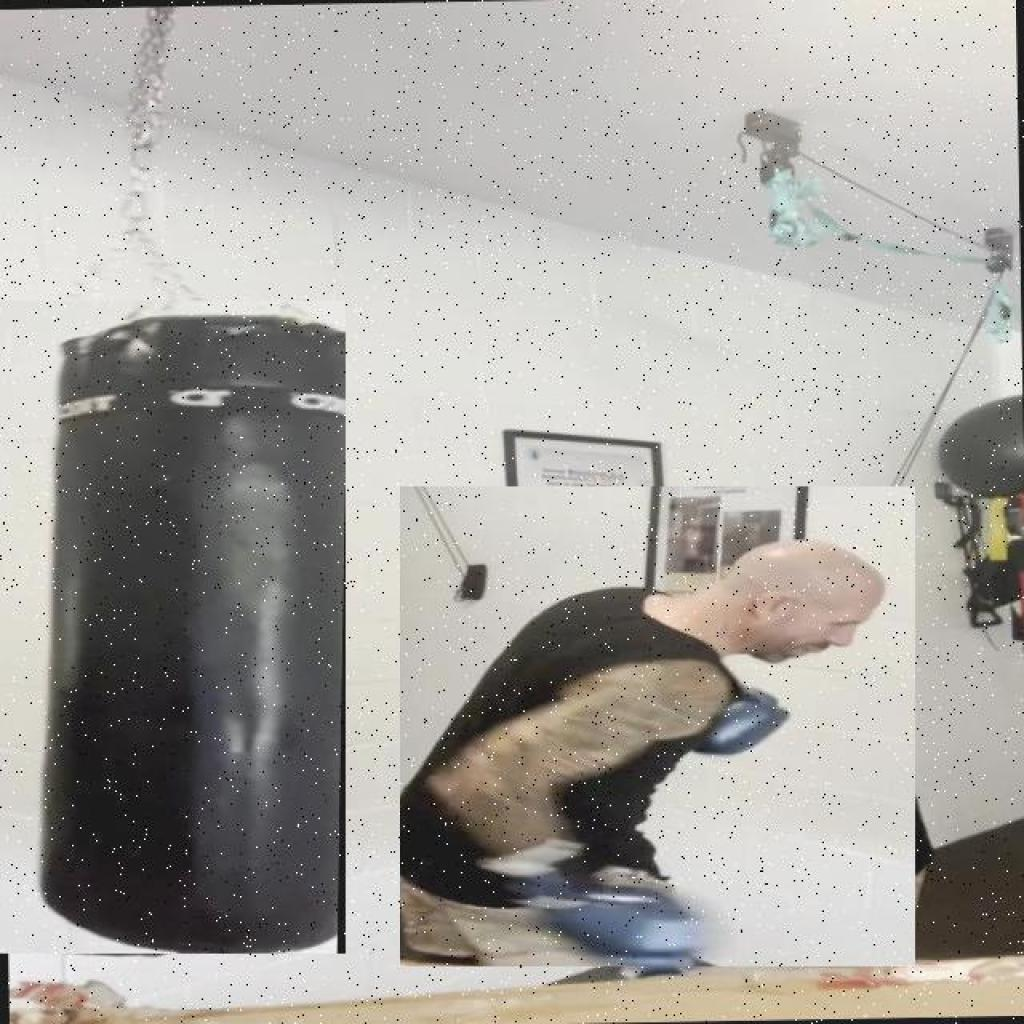bag: (0, 301, 346, 954)
uppercut: (400, 486, 915, 966)
